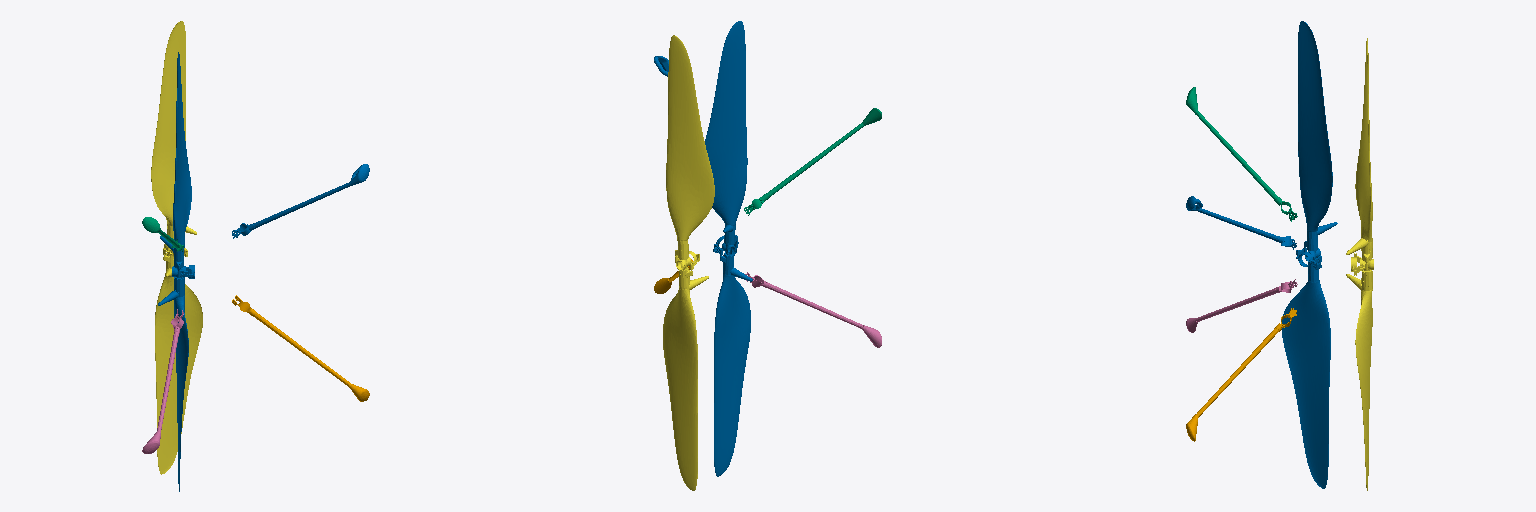
The robot description file, URDF, robot "Ingenuity":
<?xml version="1.0" ?>
<robot name="Ingenuity">
    <!-- Add world link -->
    <link name="world"/>
    
    <!-- Add floating joint connecting world to root -->
    <joint name="floating_base" type="floating">
        <origin xyz="0 0 0" rpy="0 0 0"/>
        <parent link="world"/>
        <child link="root"/>
    </joint>
    
    <link name="root">
        <inertial>
            <origin xyz="0 0 0" rpy="0 0 0"/>
            <mass value="0"/>
            <inertia ixx="0" ixy="0" ixz="0" iyy="0" iyz="0" izz="0"/>
        </inertial>
    </link>
	<link name="Body_MHS_MainBody_v16">
		<inertial>
			<origin xyz="0 0 0" rpy="0 -0 0"/>
			<mass value="0"/>
			<inertia ixx="0" ixy="0" ixz="0" iyy="0" iyz="0" izz="0"/>
		</inertial>
		<visual name="VisGeom_MHS_MainBody_v16">
			<origin xyz="0 0 0" rpy="0 -0 0"/>
			<geometry>
				<mesh filename="package://meshes/MHS_MainBody_v16.stl" scale="1 1 1"/>
			</geometry>
		</visual>
	</link>
	<link name="Body_MHS_TopBlades_v16">
		<inertial>
			<origin xyz="0 0 0" rpy="0 -0 0"/>
			<mass value="0"/>
			<inertia ixx="0" ixy="0" ixz="0" iyy="0" iyz="0" izz="0"/>
		</inertial>
		<visual name="VisGeom_MHS_TopBlades_v16">
			<origin xyz="0 0 0" rpy="0 -0 0"/>
			<geometry>
				<mesh filename="package://meshes/MHS_TopBlades_v16.stl" scale="1 1 1"/>
			</geometry>
		</visual>
	</link>
	<link name="Body_MHS_BottomBlades_v16">
		<inertial>
			<origin xyz="0 0 0" rpy="0 -0 0"/>
			<mass value="0"/>
			<inertia ixx="0" ixy="0" ixz="0" iyy="0" iyz="0" izz="0"/>
		</inertial>
		<visual name="VisGeom_MHS_BottomBlades_v16">
			<origin xyz="0 0 0" rpy="0 -0 0"/>
			<geometry>
				<mesh filename="package://meshes/MHS_BottomBlades_v16.stl" scale="1 1 1"/>
			</geometry>
		</visual>
	</link>
	<link name="Body_Joint_Leg02_Axis">
		<inertial>
			<origin xyz="0 0 0" rpy="0 -0 0"/>
			<mass value="0"/>
			<inertia ixx="0" ixy="0" ixz="0" iyy="0" iyz="0" izz="0"/>
		</inertial>
	</link>
	<link name="Body_MHS_Leg02_v16">
		<inertial>
			<origin xyz="0 0 0" rpy="0 -0 0"/>
			<mass value="0"/>
			<inertia ixx="0" ixy="0" ixz="0" iyy="0" iyz="0" izz="0"/>
		</inertial>
		<visual name="VisGeom_MHS_Leg02_v16">
			<origin xyz="0 0 0" rpy="0 -0 0"/>
			<geometry>
				<mesh filename="package://meshes/MHS_Leg02_v16.stl" scale="1 1 1"/>
			</geometry>
		</visual>
	</link>
	<link name="Body_Joint_Leg01_Axis">
		<inertial>
			<origin xyz="0 0 0" rpy="0 -0 0"/>
			<mass value="0"/>
			<inertia ixx="0" ixy="0" ixz="0" iyy="0" iyz="0" izz="0"/>
		</inertial>
	</link>
	<link name="Body_MHS_Leg01_v16">
		<inertial>
			<origin xyz="0 0 0" rpy="0 -0 0"/>
			<mass value="0"/>
			<inertia ixx="0" ixy="0" ixz="0" iyy="0" iyz="0" izz="0"/>
		</inertial>
		<visual name="VisGeom_MHS_Leg01_v16">
			<origin xyz="0 0 0" rpy="0 -0 0"/>
			<geometry>
				<mesh filename="package://meshes/MHS_Leg01_v16.stl" scale="1 1 1"/>
			</geometry>
		</visual>
	</link>
	<link name="Body_Joint_Leg03_Axis">
		<inertial>
			<origin xyz="0 0 0" rpy="0 -0 0"/>
			<mass value="0"/>
			<inertia ixx="0" ixy="0" ixz="0" iyy="0" iyz="0" izz="0"/>
		</inertial>
	</link>
	<link name="Body_MHS_Leg03_v16">
		<inertial>
			<origin xyz="0 0 0" rpy="0 -0 0"/>
			<mass value="0"/>
			<inertia ixx="0" ixy="0" ixz="0" iyy="0" iyz="0" izz="0"/>
		</inertial>
		<visual name="VisGeom_MHS_Leg03_v16">
			<origin xyz="0 0 0" rpy="0 -0 0"/>
			<geometry>
				<mesh filename="package://meshes/MHS_Leg03_v16.stl" scale="1 1 1"/>
			</geometry>
		</visual>
	</link>
	<link name="Body_Joint_Leg04_Axis">
		<inertial>
			<origin xyz="0 0 0" rpy="0 -0 0"/>
			<mass value="0"/>
			<inertia ixx="0" ixy="0" ixz="0" iyy="0" iyz="0" izz="0"/>
		</inertial>
	</link>
	<link name="Body_MHS_Leg04_v16">
		<inertial>
			<origin xyz="0 0 0" rpy="0 -0 0"/>
			<mass value="0"/>
			<inertia ixx="0" ixy="0" ixz="0" iyy="0" iyz="0" izz="0"/>
		</inertial>
		<visual name="VisGeom_MHS_Leg04_v16">
			<origin xyz="0 0 0" rpy="0 -0 0"/>
			<geometry>
				<mesh filename="package://meshes/MHS_Leg04_v16.stl" scale="1 1 1"/>
			</geometry>
		</visual>
	</link>
	<link name="Frame_MHS_NAVCAM"></link>
	<joint name="MHS_MainBody_v16" type="fixed">
		<origin xyz="0 0 0" rpy="0 -0 0"/>
		<parent link="root"/>
		<child link="Body_MHS_MainBody_v16"/>
	</joint>
	<joint name="MHS_TopBlades_v16" type="revolute">
		<origin xyz="0 0 0" rpy="0 -0 0"/>
		<parent link="Body_MHS_MainBody_v16"/>
		<child link="Body_MHS_TopBlades_v16"/>
		<axis xyz="0 0 1"/>
		<limit lower="-1.79769e+308" upper="1.79769e+308" effort="1.79769e+308" velocity="1.79769e+308"/>
	</joint>
	<joint name="MHS_BottomBlades_v16" type="revolute">
		<origin xyz="0 0 0" rpy="0 -0 0.994839"/>
		<parent link="Body_MHS_MainBody_v16"/>
		<child link="Body_MHS_BottomBlades_v16"/>
		<axis xyz="0 0 1"/>
		<limit lower="-1.79769e+308" upper="1.79769e+308" effort="1.79769e+308" velocity="1.79769e+308"/>
	</joint>
	<joint name="Joint_Leg02_Axis" type="revolute">
		<origin xyz="-0.0799965 -0.0899998 0.013566" rpy="-0.0338305 -0.721918 0.0511692"/>
		<parent link="Body_MHS_MainBody_v16"/>
		<child link="Body_Joint_Leg02_Axis"/>
		<axis xyz="-1 0 0"/>
		<limit lower="-1.79769e+308" upper="1.79769e+308" effort="1.79769e+308" velocity="1.79769e+308"/>
	</joint>
	<joint name="MHS_Leg02_v16" type="fixed">
		<origin xyz="0.0544521 0.0879744 -0.0630787" rpy="1.11631e-09 0.722567 -0.0383972"/>
		<parent link="Body_Joint_Leg02_Axis"/>
		<child link="Body_MHS_Leg02_v16"/>
	</joint>
	<joint name="Joint_Leg01_Axis" type="revolute">
		<origin xyz="0.0804546 -0.0897671 0.013368" rpy="0.180504 0.364465 0.473174"/>
		<parent link="Body_MHS_MainBody_v16"/>
		<child link="Body_Joint_Leg01_Axis"/>
		<axis xyz="-1 0 0"/>
		<limit lower="-1.79769e+308" upper="1.79769e+308" effort="1.79769e+308" velocity="1.79769e+308"/>
	</joint>
	<joint name="MHS_Leg01_v16" type="fixed">
		<origin xyz="-0.0239246 0.110467 -0.0439815" rpy="-5.70219e-08 -0.404917 -0.439824"/>
		<parent link="Body_Joint_Leg01_Axis"/>
		<child link="Body_MHS_Leg01_v16"/>
	</joint>
	<joint name="Joint_Leg03_Axis" type="revolute">
		<origin xyz="-0.0799965 0.0899998 0.013566" rpy="0.0338306 -0.721918 -0.0511692"/>
		<parent link="Body_MHS_MainBody_v16"/>
		<child link="Body_Joint_Leg03_Axis"/>
		<axis xyz="-1 0 0"/>
		<limit lower="-1.79769e+308" upper="1.79769e+308" effort="1.79769e+308" velocity="1.79769e+308"/>
	</joint>
	<joint name="MHS_Leg03_v16" type="fixed">
		<origin xyz="0.0544521 -0.0879744 -0.0630787" rpy="9.26579e-09 0.722567 0.0383972"/>
		<parent link="Body_Joint_Leg03_Axis"/>
		<child link="Body_MHS_Leg03_v16"/>
	</joint>
	<joint name="Joint_Leg04_Axis" type="revolute">
		<origin xyz="0.0804546 0.0898284 0.013315" rpy="6.77871e-07 0.460765 -0.364774"/>
		<parent link="Body_MHS_MainBody_v16"/>
		<child link="Body_Joint_Leg04_Axis"/>
		<axis xyz="-1 0 0"/>
		<limit lower="-1.79769e+308" upper="1.79769e+308" effort="1.79769e+308" velocity="1.79769e+308"/>
	</joint>
	<joint name="MHS_Leg04_v16" type="fixed">
		<origin xyz="-0.032699 -0.112619 -0.0310971" rpy="-0.175269 -0.428359 0.402991"/>
		<parent link="Body_Joint_Leg04_Axis"/>
		<child link="Body_MHS_Leg04_v16"/>
	</joint>
	<joint name="MHS_NAVCAM" type="fixed">
		<origin xyz="0.0 0.0616891 0.13743" rpy="-0.0027478 0.0580433 -1.57391594"/>
		<parent link="Body_MHS_MainBody_v16"/>
		<child link="Frame_MHS_NAVCAM"/>
	</joint>
</robot>

--- Render facts (derived) ---
Views: 3 orthographic renders of the robot side by side, from view 1: azimuth 30°, elevation 25°; view 2: azimuth 150°, elevation 25°; view 3: azimuth 270°, elevation 25°.
Robot: Ingenuity — 14 links, 13 joints (6 revolute, 6 fixed, 1 floating); root link world; default pose: every joint at zero.
Links seen in each view (by area): view 1: Body_MHS_TopBlades_v16, Body_MHS_BottomBlades_v16, Body_MHS_Leg01_v16, Body_MHS_Leg04_v16, Body_MHS_Leg02_v16; view 2: Body_MHS_TopBlades_v16, Body_MHS_BottomBlades_v16, Body_MHS_Leg03_v16, Body_MHS_Leg02_v16; view 3: Body_MHS_BottomBlades_v16, Body_MHS_TopBlades_v16, Body_MHS_Leg01_v16, Body_MHS_Leg03_v16, Body_MHS_Leg04_v16, Body_MHS_Leg02_v16.
Boxes of the visible links, x1,y1,x2,y2 form: Body_MHS_TopBlades_v16: (151,21,202,474); Body_MHS_BottomBlades_v16: (158,52,194,491); Body_MHS_Leg01_v16: (232,295,369,401); Body_MHS_Leg04_v16: (232,164,369,238); Body_MHS_Leg02_v16: (142,309,183,453); Body_MHS_TopBlades_v16: (663,35,714,490); Body_MHS_BottomBlades_v16: (705,21,752,476); Body_MHS_Leg03_v16: (744,108,881,215); Body_MHS_Leg02_v16: (745,272,881,347); Body_MHS_BottomBlades_v16: (1282,21,1337,488); Body_MHS_TopBlades_v16: (1346,38,1373,490); Body_MHS_Leg01_v16: (1186,308,1296,441); Body_MHS_Leg03_v16: (1186,87,1297,221); Body_MHS_Leg04_v16: (1186,196,1296,249); Body_MHS_Leg02_v16: (1186,279,1297,332).
Size in the robot's own frame: 0.6397 by 0.4455 by 1.21 metres.
Meshes: 7 distinct files referenced, 6 mesh visuals loaded (6 binary STL); not drawn: 1 (reference not matched to a file when rendering).